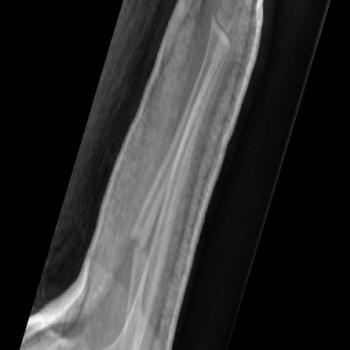Fracture: (127, 226, 155, 271)
